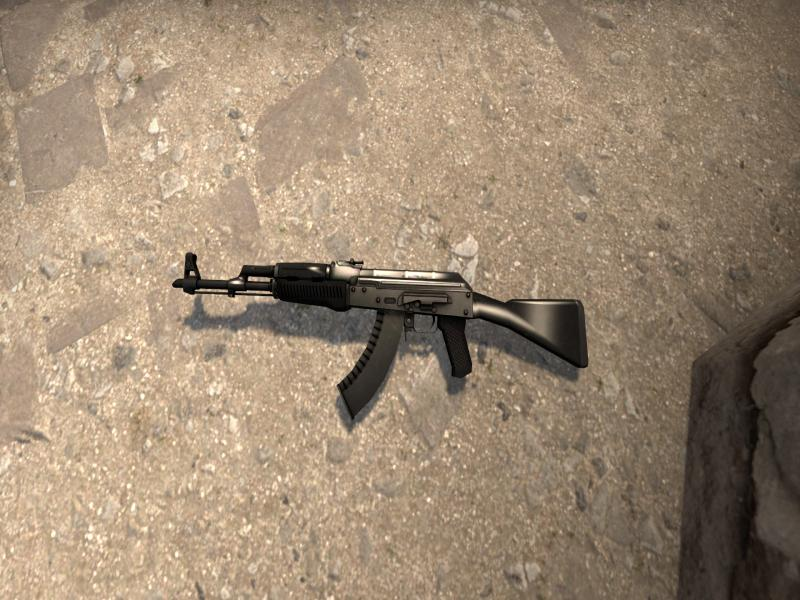AK47: (172, 252, 588, 418)
